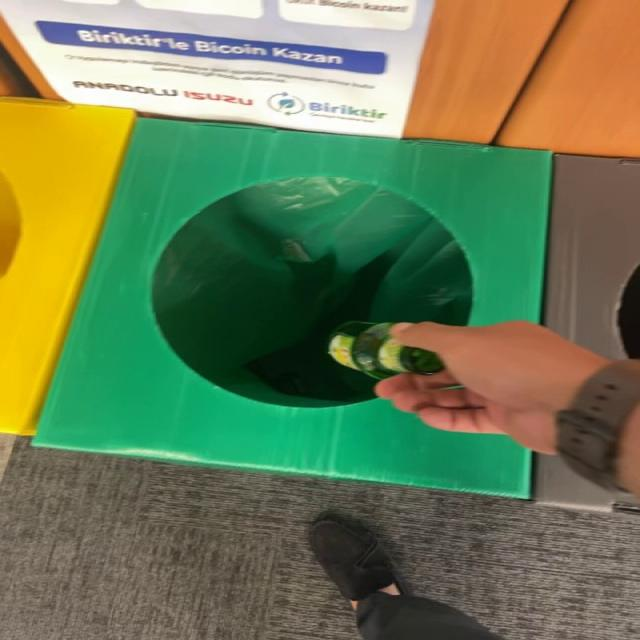glass: (329, 324, 445, 380)
